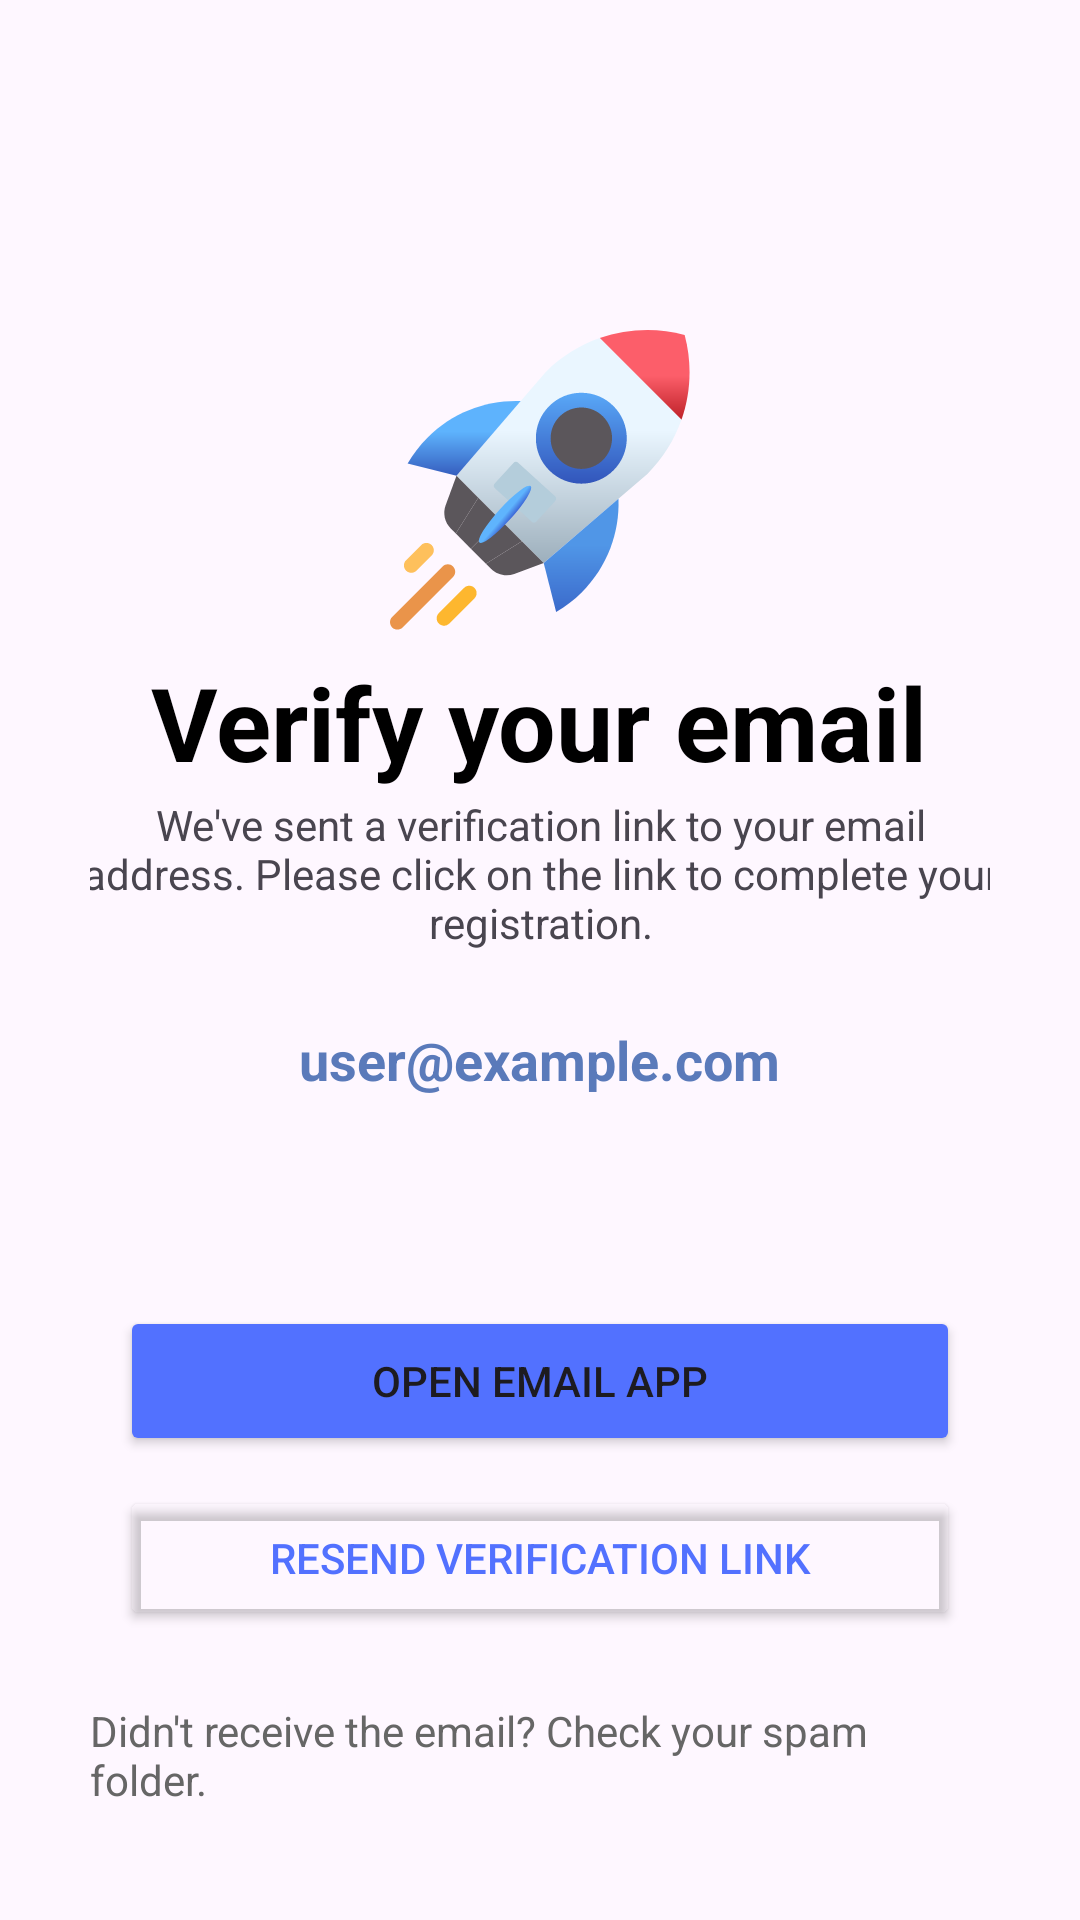

Icons on this 1080w x 1920h Android screen, each with the point to tap as (x=x, y=y):
rocket: (x=540, y=480)
